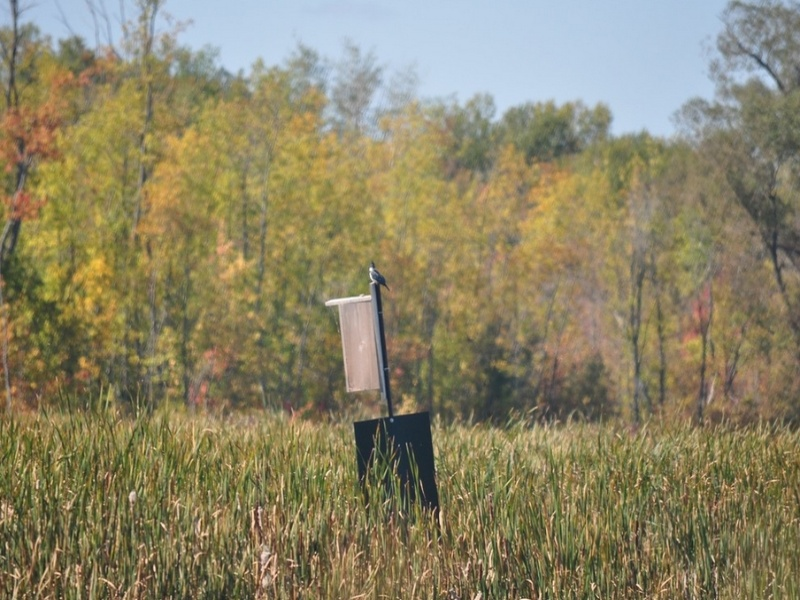kingfisher: (367, 260, 390, 292)
